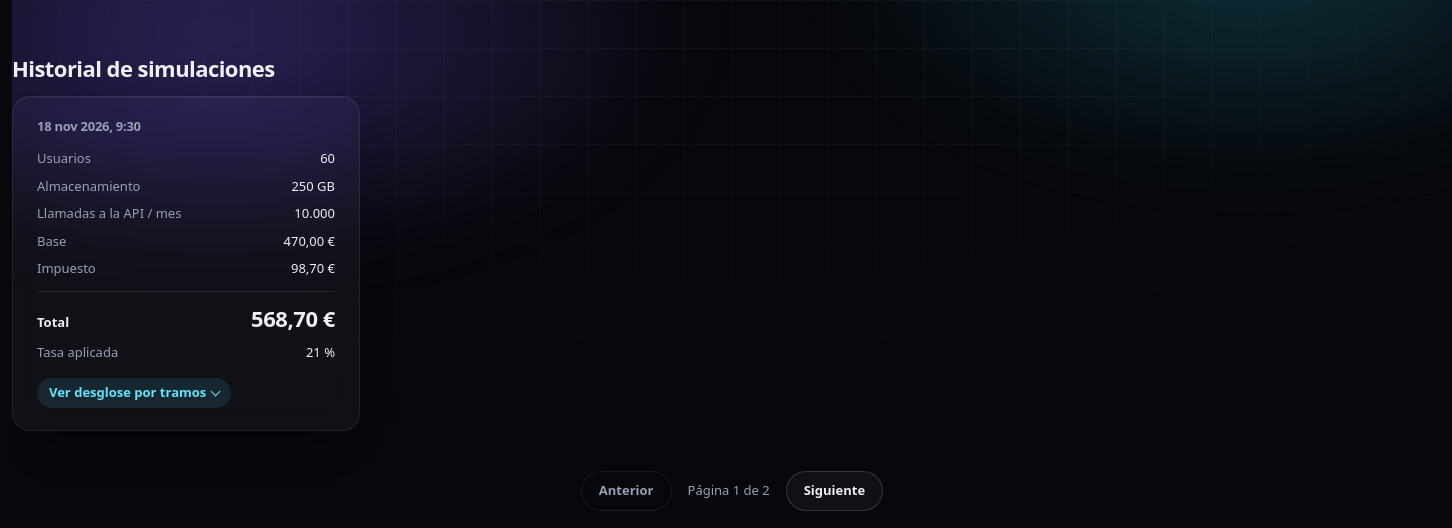
Test case: SimulationHistory › la paginación pide la página siguiente del historial
This screenshot has width=1452, height=528.
Expected: the element named "Simulación 3" is shown, [12,96,360,431]
Click the button "Siguiente" at (834, 491), box [786,471,883,511]
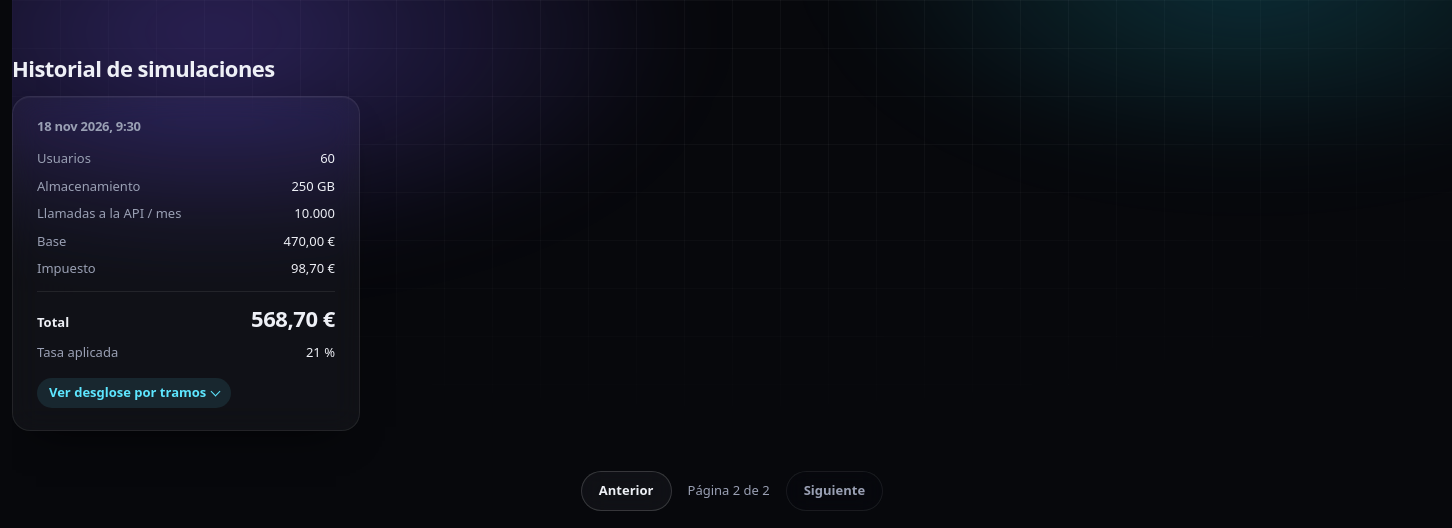
Expected: the element named "Simulación 1" is shown, [12,96,360,431]
Now the text "Página 2 de 2" is shown, box [688,481,770,501]
